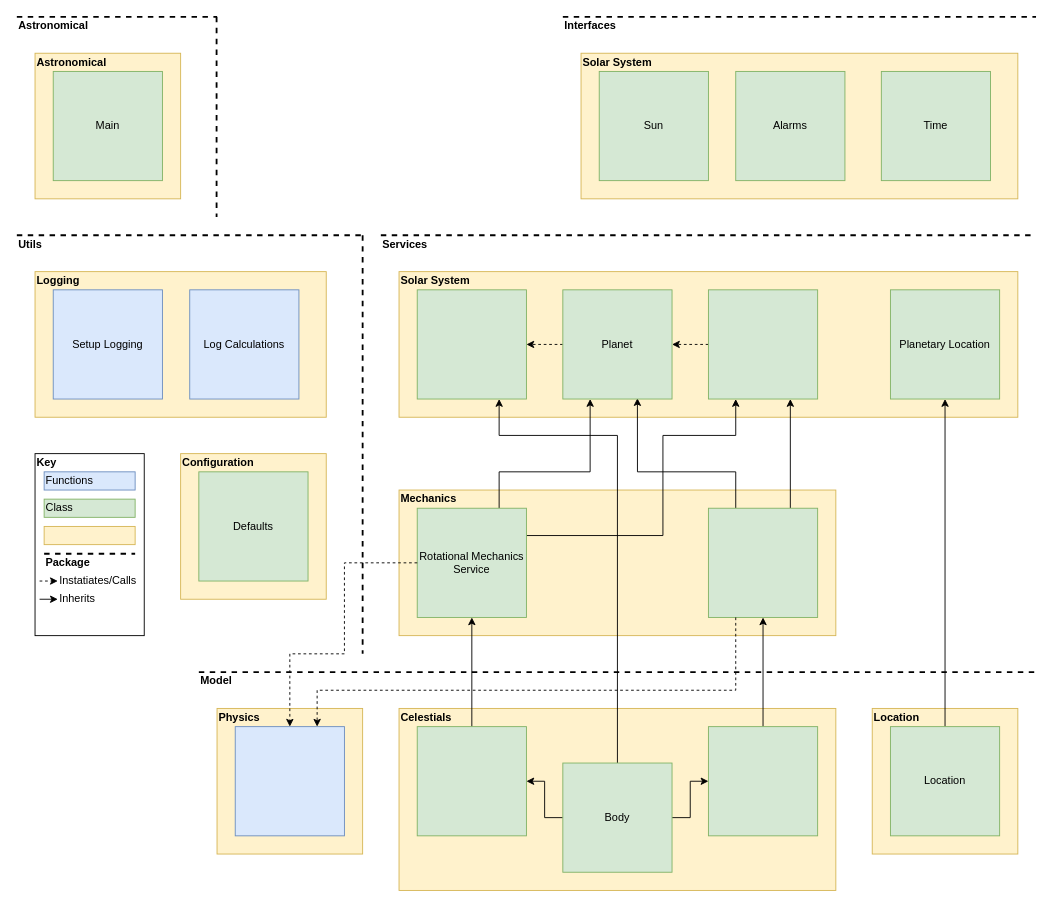
This 1053x906 diagram has some shape labels left out. The shapes that lost their labels are listed below. From the top down, each one's box as (x1, y1, x2, y2) in pixels, then its label:
(416, 289, 526, 399): Star
(708, 289, 818, 399): Moon
(43, 526, 135, 545): Module
(708, 507, 818, 617): Orbittal Mechanics Service
(234, 726, 344, 836): Physics Equations (*many)
(416, 726, 526, 836): Spinning Body
(708, 726, 818, 836): Orbitting Body
